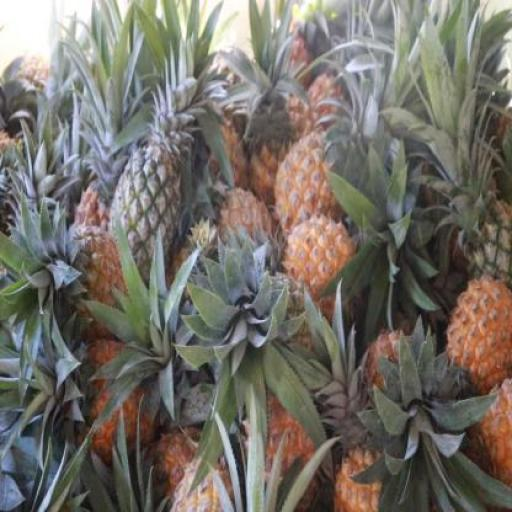Pineapple - v8 v1: (444, 277, 511, 393), (274, 136, 344, 238), (279, 214, 352, 302)
